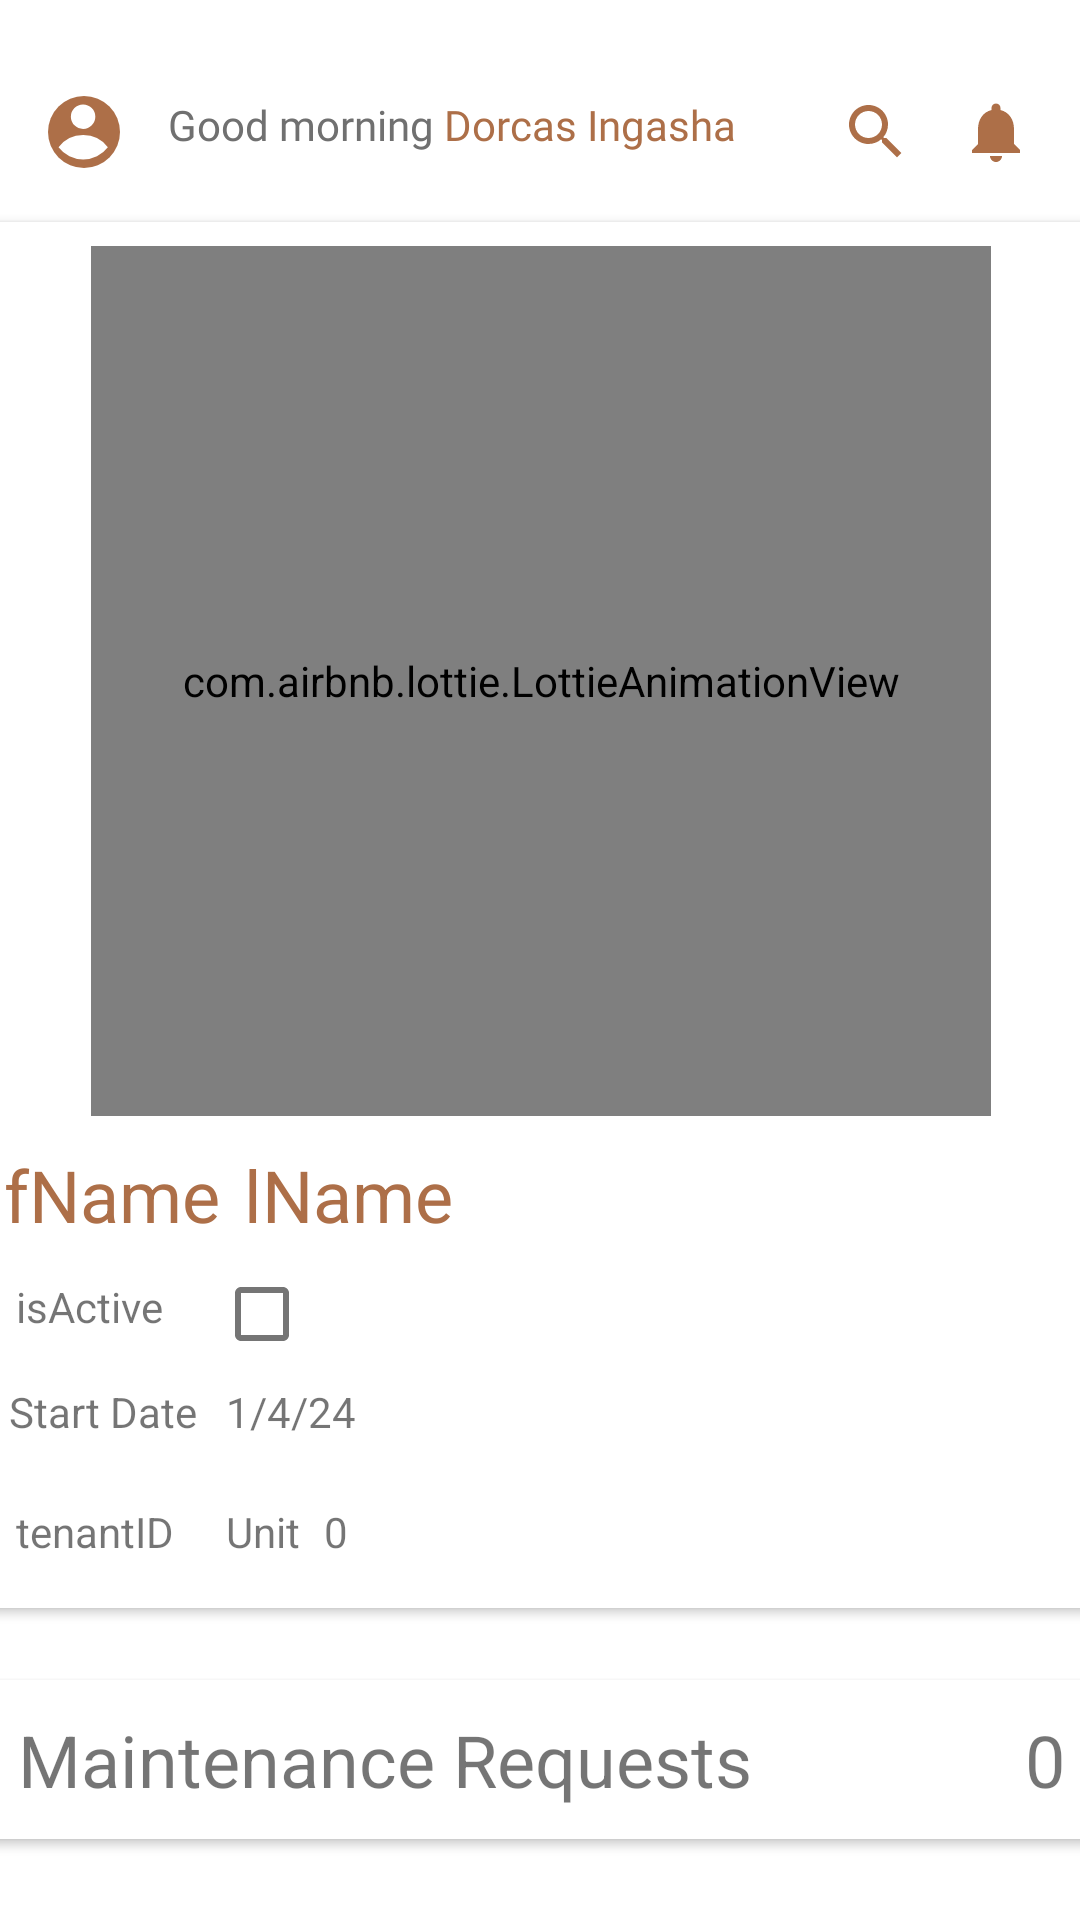

Point at icon controls on the screen. Image size 1080 x 1920, points as (x=x, y=y).
notifications: (x=996, y=132)
search: (x=875, y=131)
